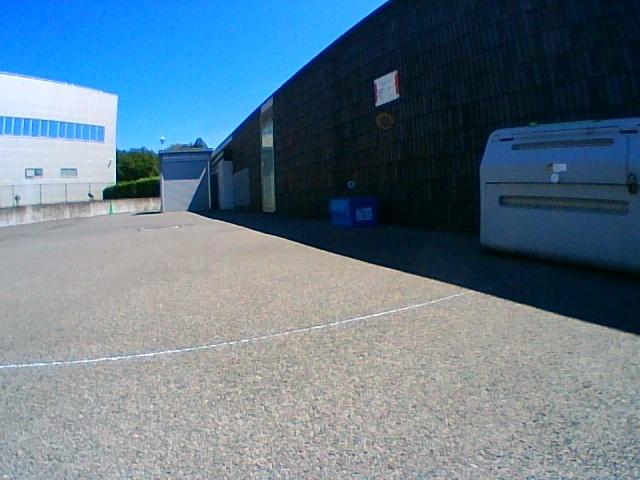blue_box: (331, 198, 375, 227)
tag: (358, 209, 369, 220)
